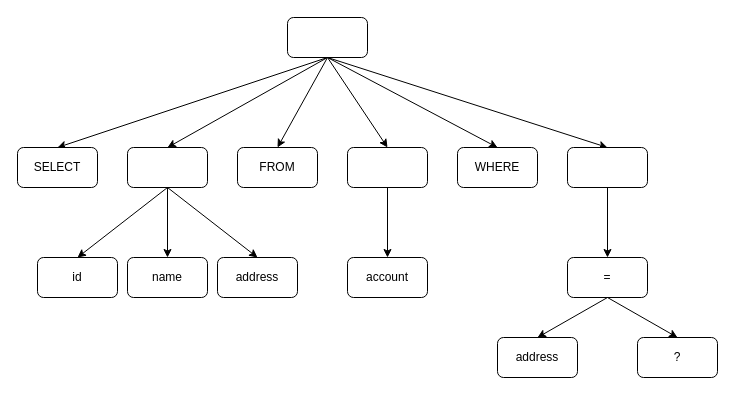
Image size: 735x395. Some labels were removed from this diagram. The centre of each missing label's shape, as x and y in pixels:
"CONDITIONS" goes at [607,167].
"FIELEDS" goes at [167,167].
"Root" goes at [327,37].
"TABLES" goes at [387,167].
